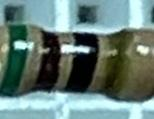Black: (63, 32, 101, 93), (31, 26, 64, 94)
Green: (0, 27, 31, 97)
Side-Gold: (100, 30, 128, 103)
